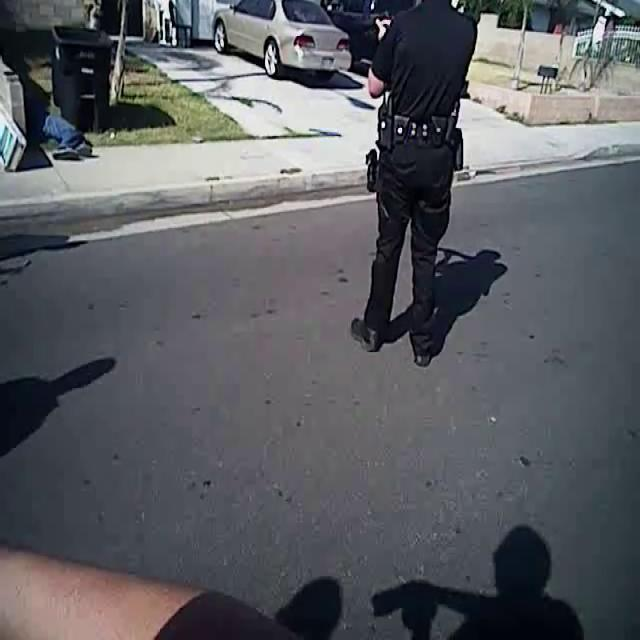gun: (355, 0, 397, 50)
